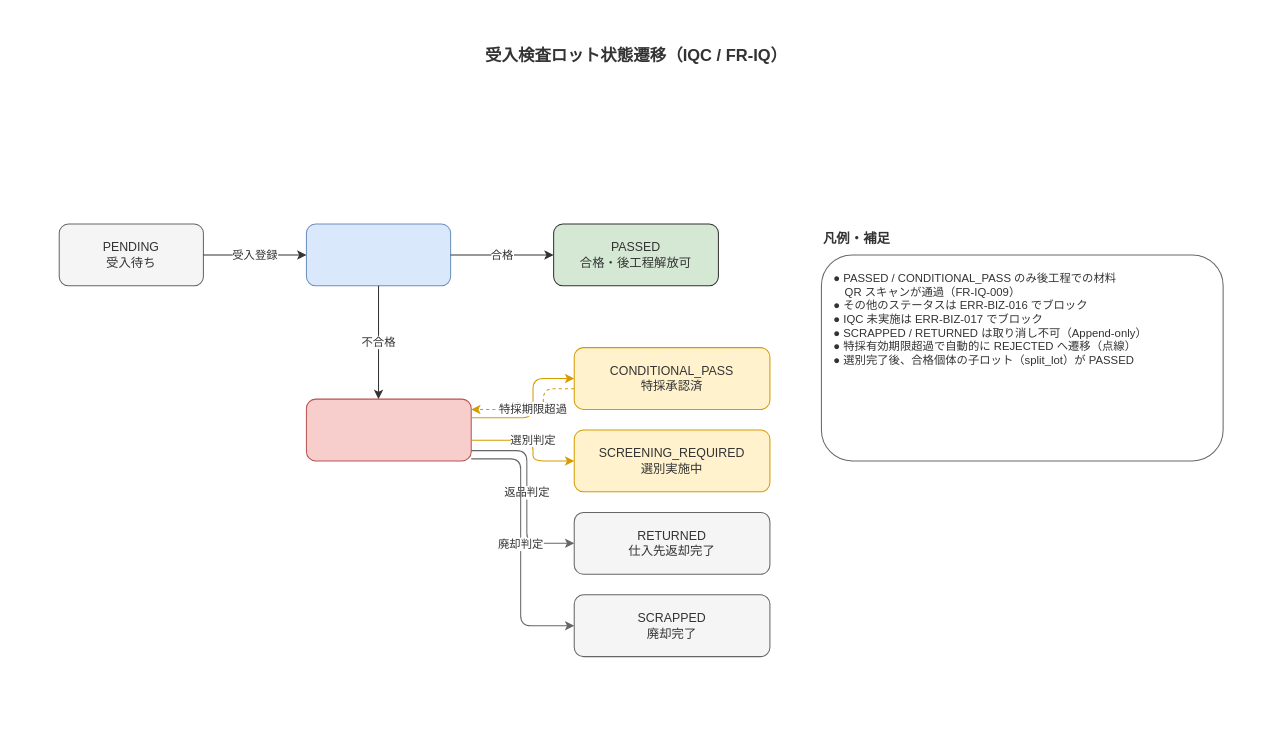
Image size: 1271x735. Some labels were removed from this diagram. The shapes that lost their labels are listed below. From the top down, each one's centre as x and y in pixels, then its label:
[378,254]: INSPECTING 検査実施中
[388,429]: REJECTED 不合格（4区分判定待ち）
